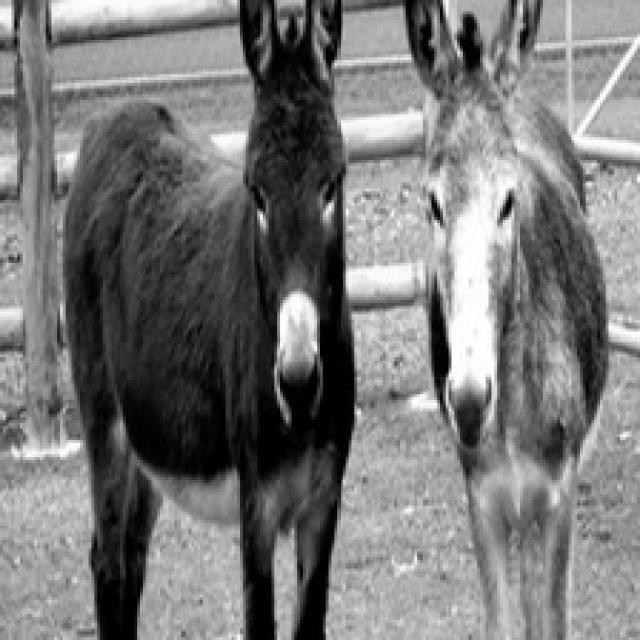Donkey: (60, 0, 354, 637), (397, 0, 609, 637)
